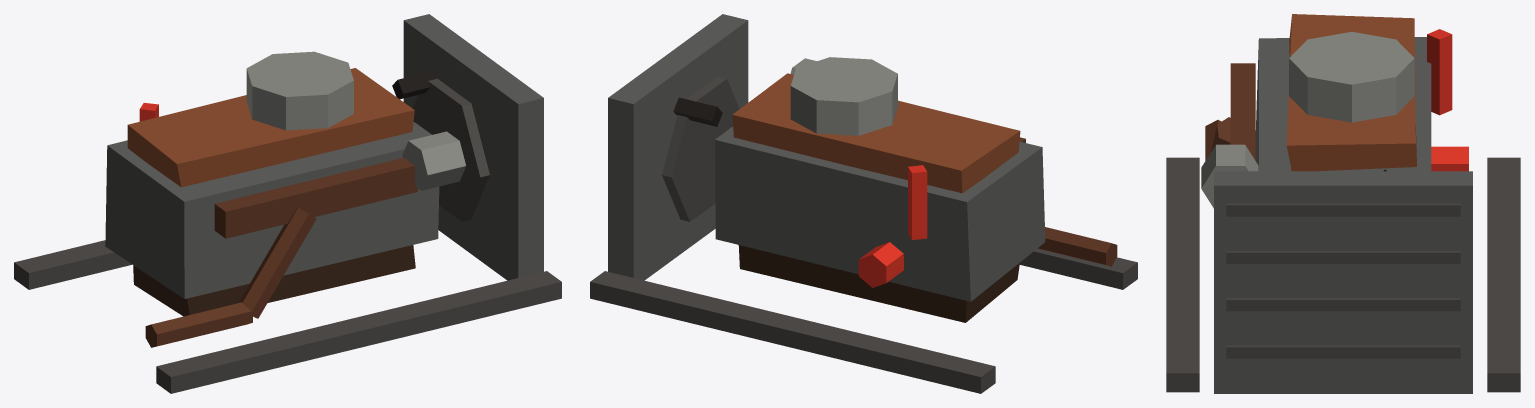
File: eng_stock.glb
3 renders of one model, left to right at view 1: azimuth 30°, elevation 25°; view 2: azimuth 150°, elevation 25°; view 3: azimuth 270°, elevation 25°, orthographic. The views are drawn at different scales.
Visible parts, largest first — view 1: eng_stock; view 2: eng_stock; view 3: eng_stock.
Part boxes in pixels (x1,y1,x2,y2): eng_stock: [14, 14, 561, 393]; eng_stock: [590, 14, 1137, 393]; eng_stock: [1166, 14, 1520, 393].
Size of the model in its own units: 1.24 by 0.62 by 0.848.
